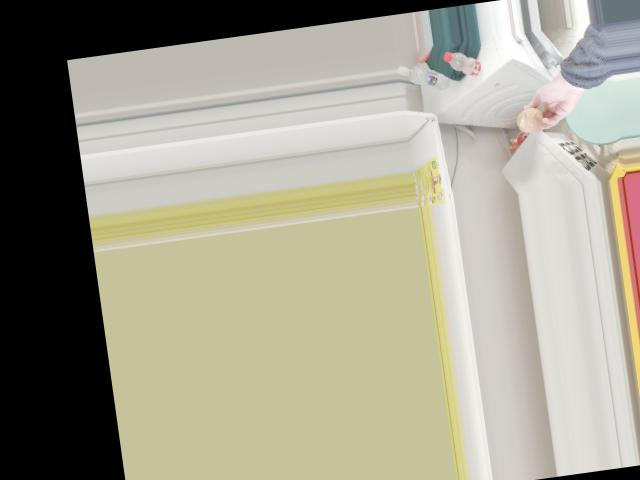sweet_potato: (516, 105, 547, 131)
